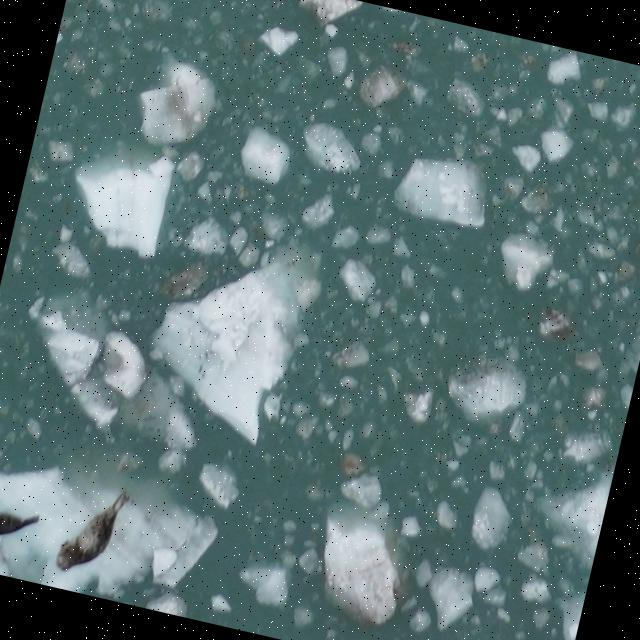seal: (50, 476, 134, 585), (0, 503, 46, 556)
